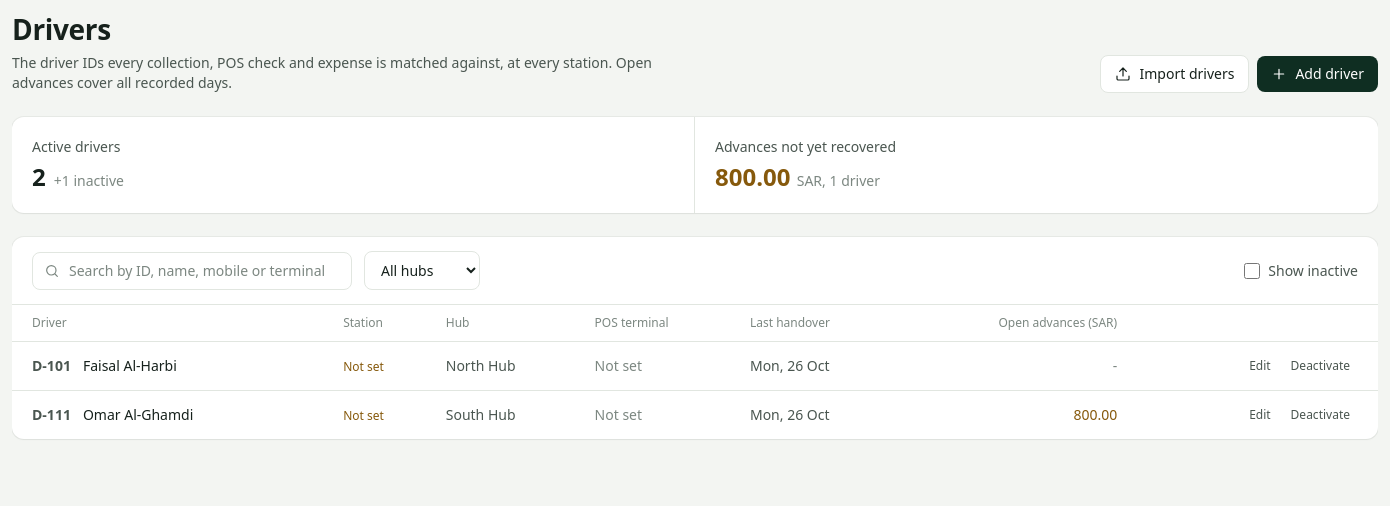
Test case: shows active drivers with totals and hides inactive ones until asked
Expected: the text "Faisal Al-Harbi" is shown, [83,356,177,376]
Expected: the text "800.00" next to "SAR," is shown, [715,160,790,193]
Click the checkbox labelled "Show inactive" at (1252, 270), box [1244,262,1260,278]
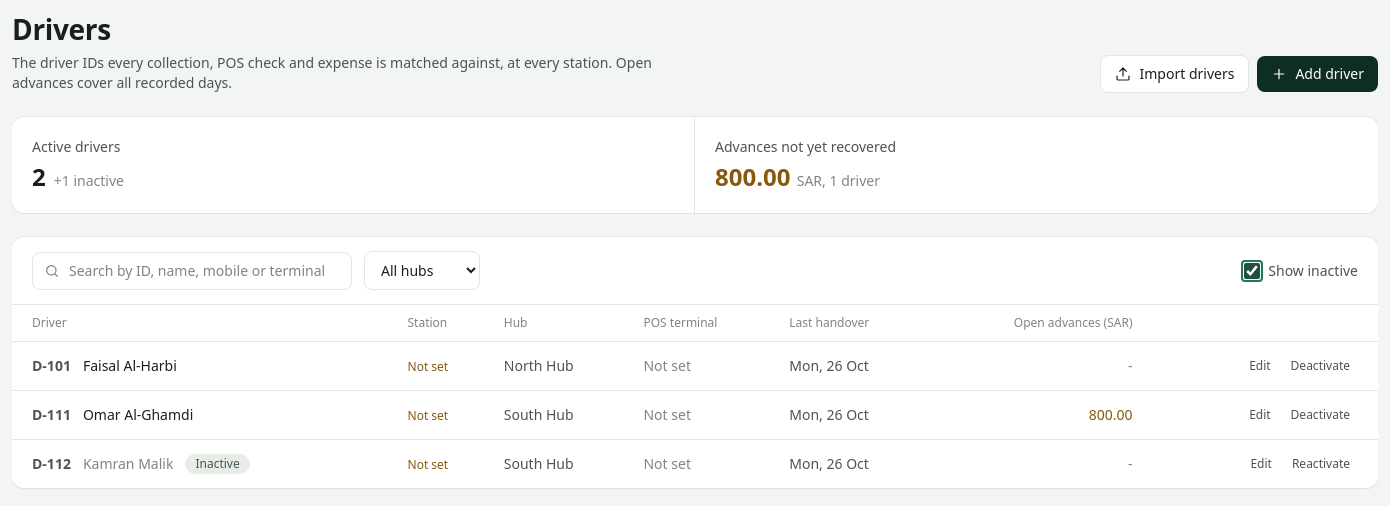
Result: the text "Kamran Malik" is shown at [83,454,173,474]
